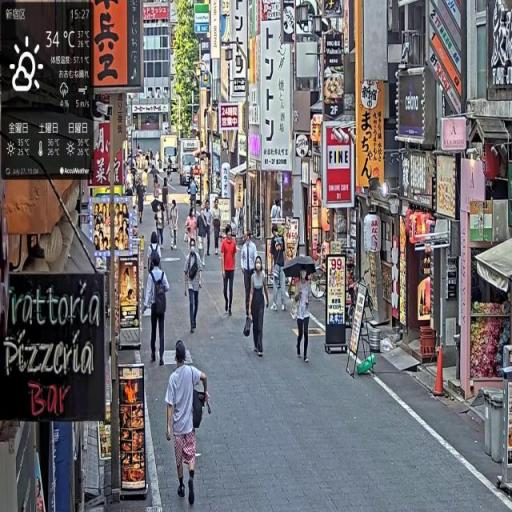person: (166, 339, 211, 509), (147, 251, 171, 368), (248, 256, 271, 361), (184, 239, 205, 336), (294, 272, 315, 364), (240, 230, 259, 325), (220, 227, 239, 319), (270, 226, 289, 315), (185, 208, 199, 258), (198, 207, 209, 268), (148, 232, 162, 279), (154, 201, 167, 251), (169, 197, 180, 251), (214, 200, 224, 256), (203, 201, 213, 257), (187, 176, 200, 218), (137, 181, 147, 225), (163, 178, 172, 223), (155, 175, 161, 203)
